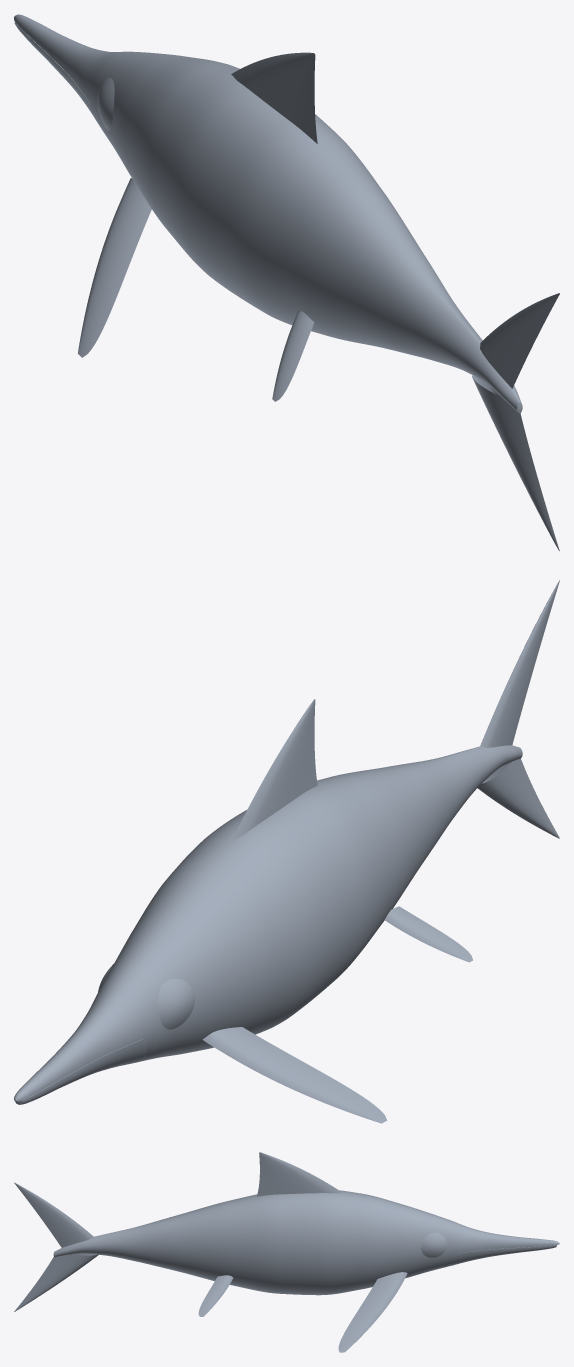
Rendered from ichthyosaur.glb.
3 views of the same model, one above another, from view 1: azimuth 30°, elevation 25°; view 2: azimuth 150°, elevation 25°; view 3: azimuth 270°, elevation 25° (orthographic). The views are drawn at different scales.
Visible parts, largest first — view 1: ichthyosaur; view 2: ichthyosaur; view 3: ichthyosaur.
Boxes of the visible parts, bbox=[...] form: ichthyosaur: bbox=[14, 14, 559, 550]; ichthyosaur: bbox=[14, 580, 559, 1123]; ichthyosaur: bbox=[14, 1152, 559, 1352].
Bounding box in the file's own units: 1.29 × 1.32 × 4.
